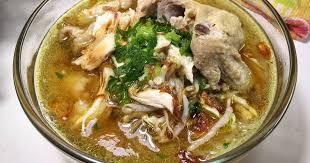soto: (41, 1, 269, 163)
